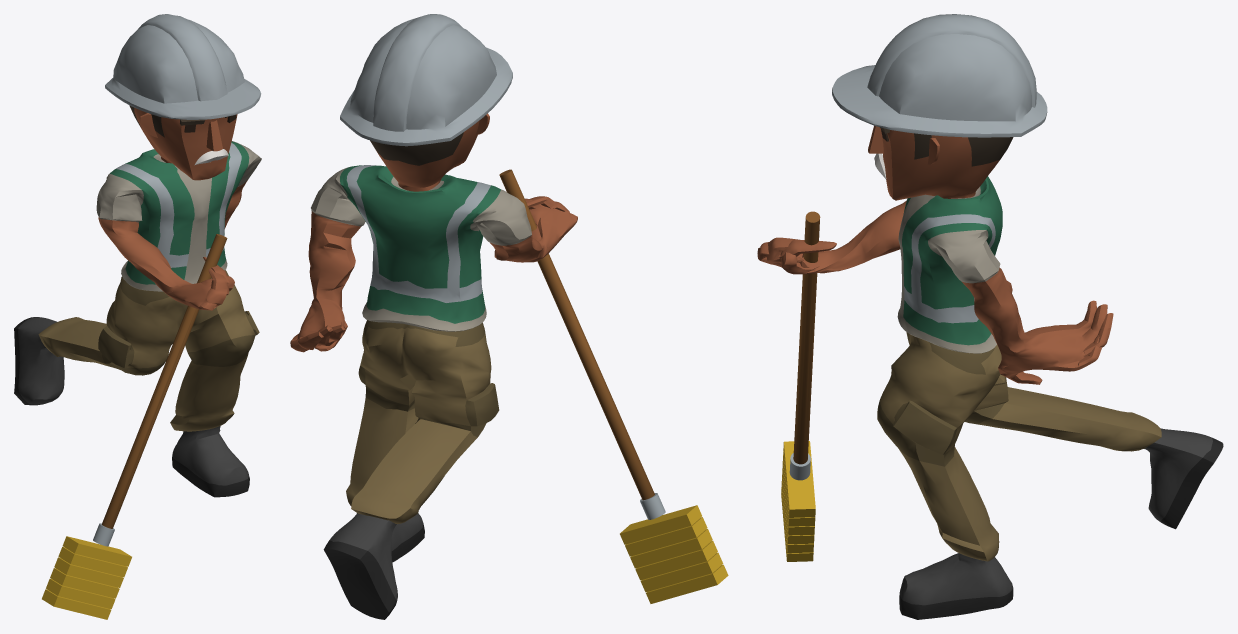
Rendered from av-zelador-estadio.glb.
The picture shows the model from 3 angles, left to right: view 1: azimuth 30°, elevation 25°; view 2: azimuth 150°, elevation 25°; view 3: azimuth 270°, elevation 25°; orthographic projection. The views are drawn at different scales.
Visible parts, largest first — view 1: Ad_vassoura_0_0; view 2: Ad_vassoura_0_0; view 3: Ad_vassoura_0_0.
Part boxes in pixels (x1=…): Ad_vassoura_0_0: x1=14, y1=14, x2=261, y2=619; Ad_vassoura_0_0: x1=290, y1=14, x2=728, y2=619; Ad_vassoura_0_0: x1=757, y1=14, x2=1223, y2=619.
Size of the model in its own units: 0.901 by 1.58 by 1.06.
1 material, 1 textured.
